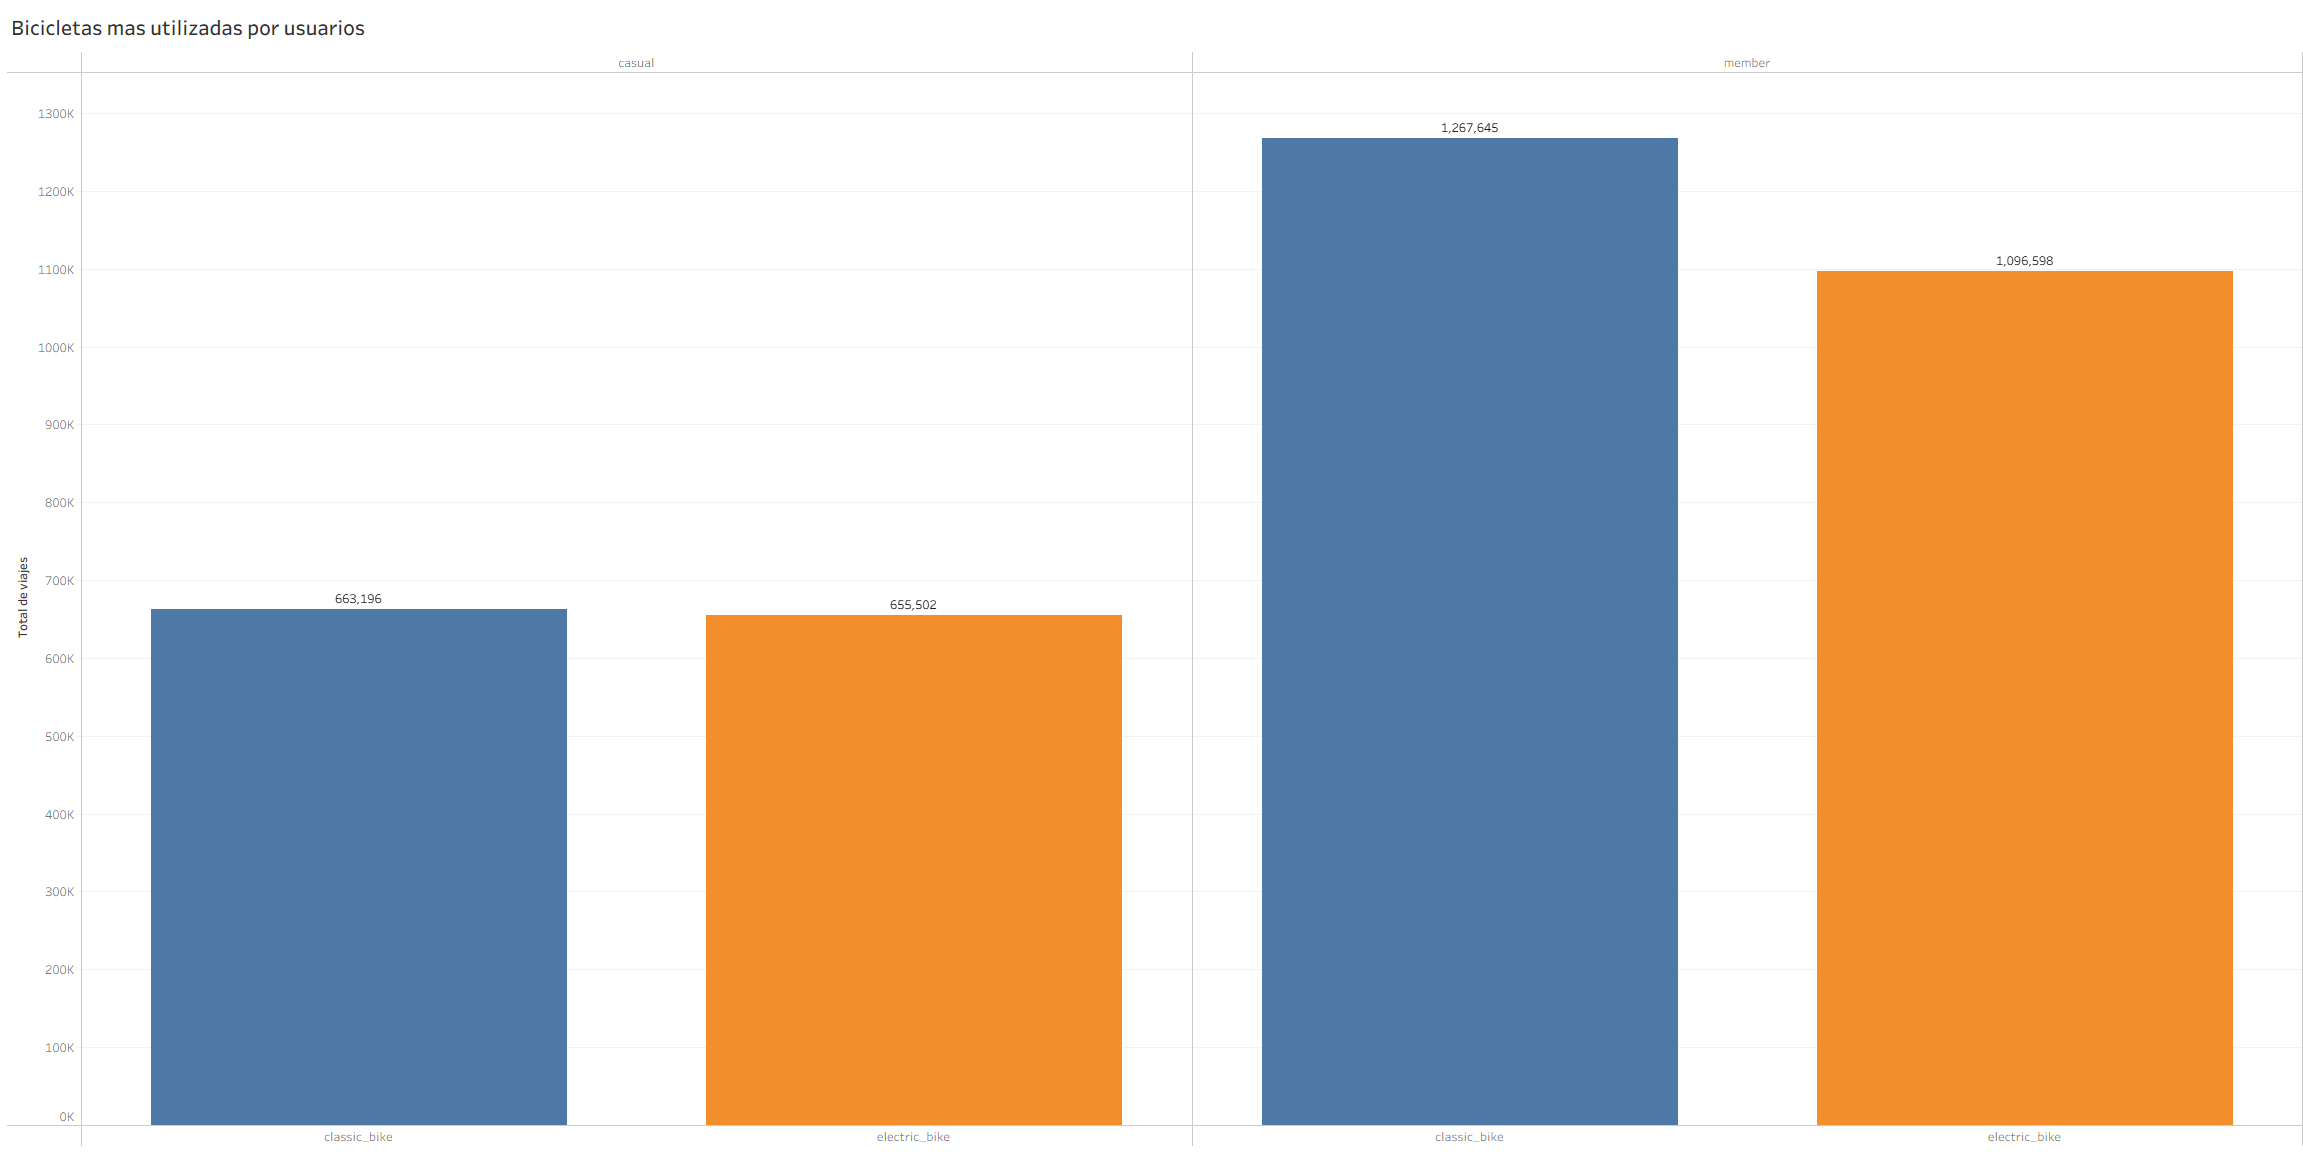

The page's visual inventory and layout, read from the dashboard file:
{"tool":"tableau","page":{"name":"Dashboard 1","canvas":[1000,1000],"units":"permille","ordinal":0},"visuals":[{"type":"worksheet","title":"Hoja 2","mark":"Automatic","rows":["cyclistic_datos_limpios.csv_8393B03E2D684EBA9C58D06571D89B41"],"cols":["member_casual","rideable_type"],"box":[7.1,16.3,985.7,967.3]}]}

Visuals, with their boxes on the dashboard's canvas, which has no fixed pixel size, in thousandths of its width and height (x1, y1, x2, y2). These are canvas units, not pixel positions in the 2303x1159 screenshot, which may show the page scaled, cropped or inside an application window:
"Hoja 2" worksheet: crop(7, 16, 993, 984)
